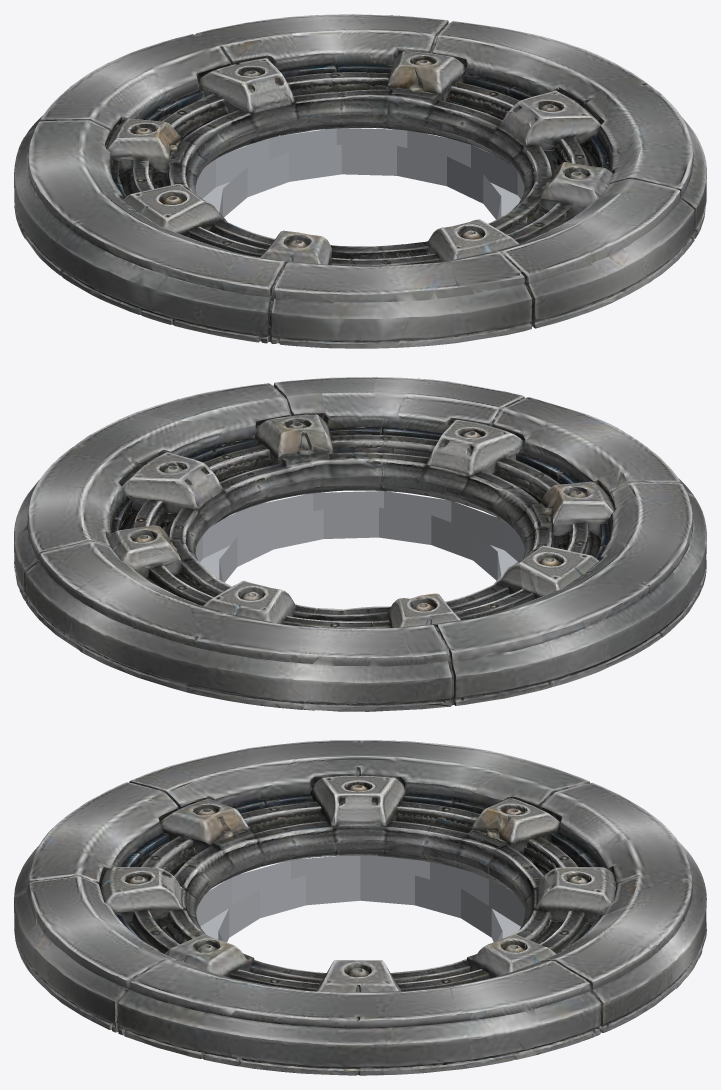
Rendered from roundel.glb.
3 renders of one model, top to bottom at view 1: azimuth 30°, elevation 25°; view 2: azimuth 150°, elevation 25°; view 3: azimuth 270°, elevation 25°, orthographic.
Parts seen in each view (by area): view 1: mesh_node; view 2: mesh_node; view 3: mesh_node.
Boxes of the visible parts, left/top/right/bottom form: mesh_node: left=14, top=14, right=706, bottom=348; mesh_node: left=14, top=377, right=706, bottom=711; mesh_node: left=14, top=740, right=706, bottom=1075.
Size of the model in its own units: 41.96 by 5.73 by 41.96.
Materials: 2 (1 with a texture image).
